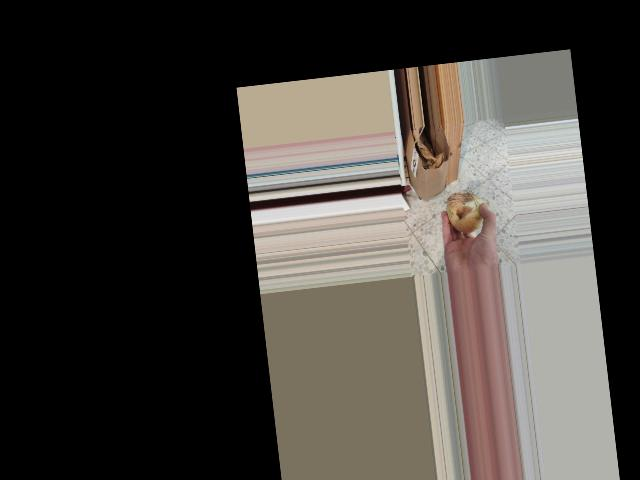onion: (444, 189, 493, 237)
